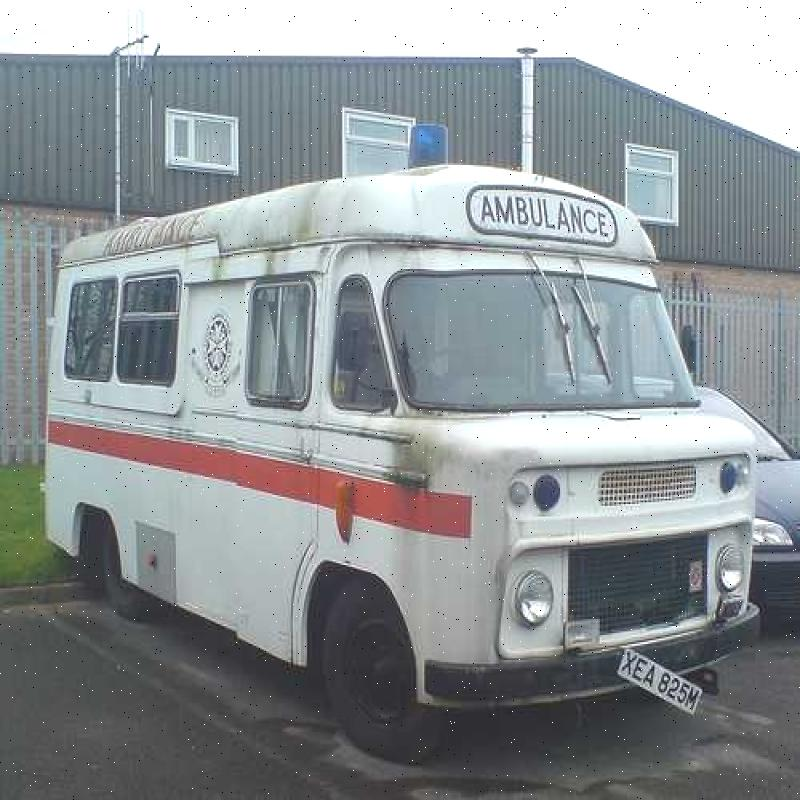AmbulanceSiren: (408, 122, 459, 181)
